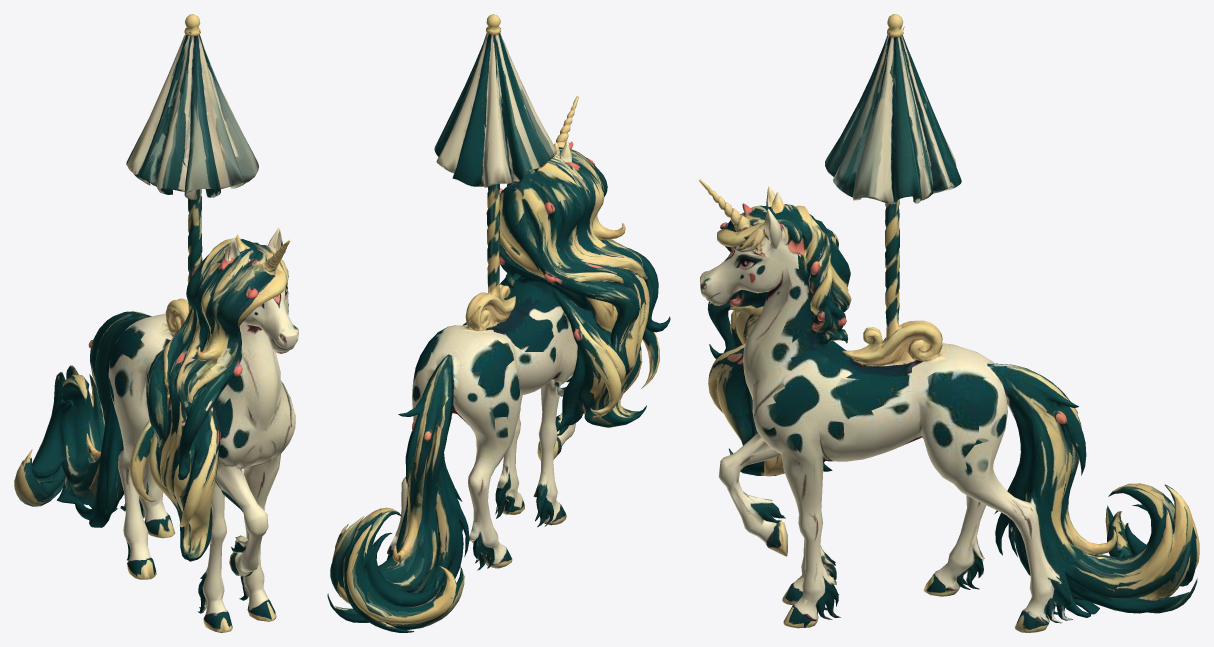
3 renders of one model, left to right at view 1: azimuth 30°, elevation 25°; view 2: azimuth 150°, elevation 25°; view 3: azimuth 270°, elevation 25°, orthographic. The views are drawn at different scales.
Visible parts, largest first — view 1: Mesh_0; view 2: Mesh_0; view 3: Mesh_0.
Boxes of the visible parts, x1=… form: Mesh_0: x1=14, y1=14, x2=298, y2=632; Mesh_0: x1=327, y1=14, x2=670, y2=632; Mesh_0: x1=699, y1=14, x2=1199, y2=632.
Size of the model in its own units: 0.5438 by 1.9 by 1.45.
1 material, 1 textured.
